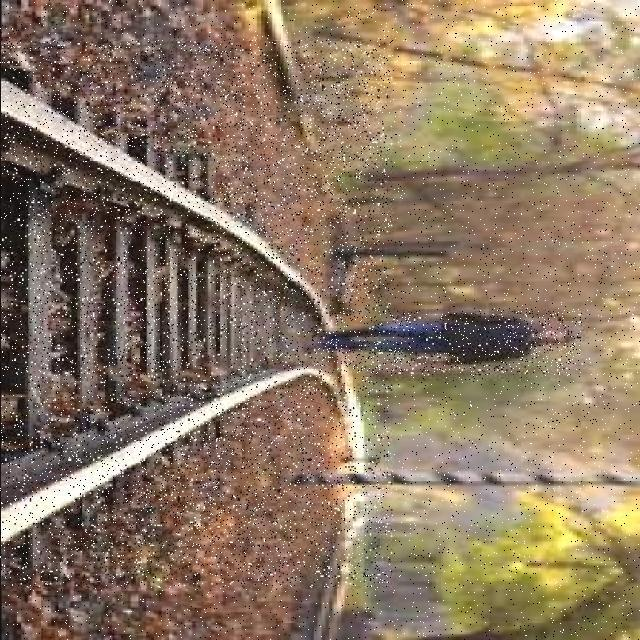danger: (310, 310, 581, 375)
rail: (1, 40, 389, 587)
